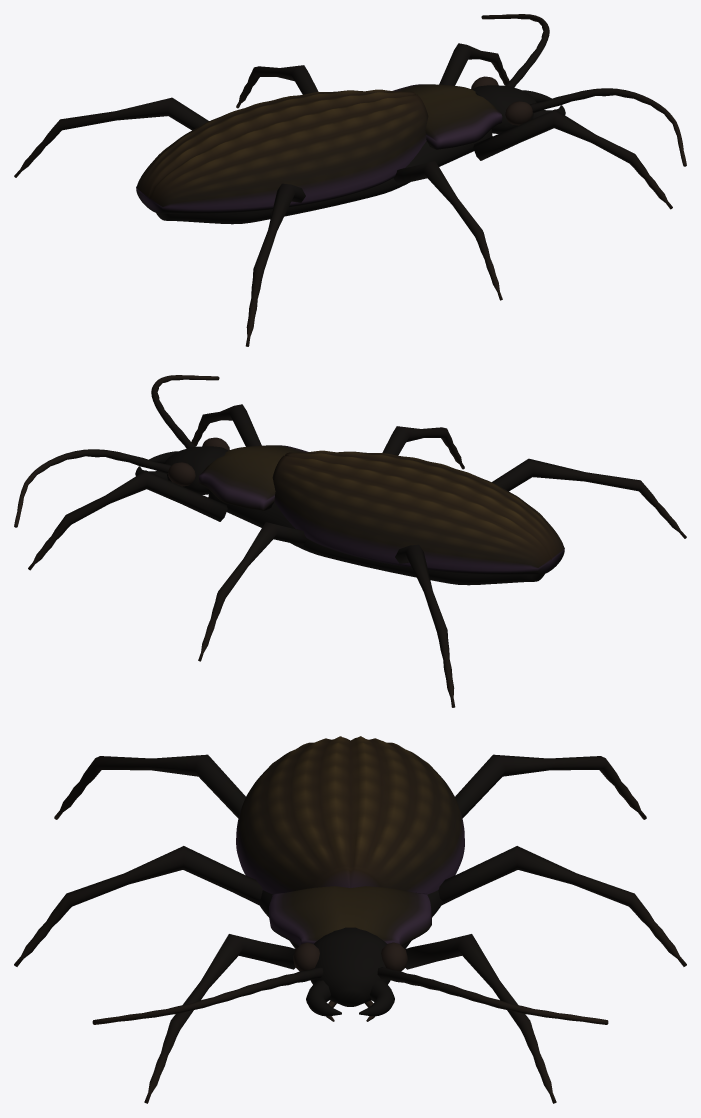
The model's file is beetle.glb.
The picture shows the model from 3 angles, top to bottom: view 1: azimuth 30°, elevation 25°; view 2: azimuth 150°, elevation 25°; view 3: azimuth 270°, elevation 25°; orthographic projection. The views are drawn at different scales.
Visible parts, largest first — view 1: beetle; view 2: beetle; view 3: beetle.
Boxes of the visible parts, x1,y1,x2,y2 form: beetle: (14, 14, 686, 346); beetle: (14, 375, 686, 707); beetle: (14, 736, 686, 1103).
Bounding box in the file's own units: 1.25 × 0.276 × 1.21.
